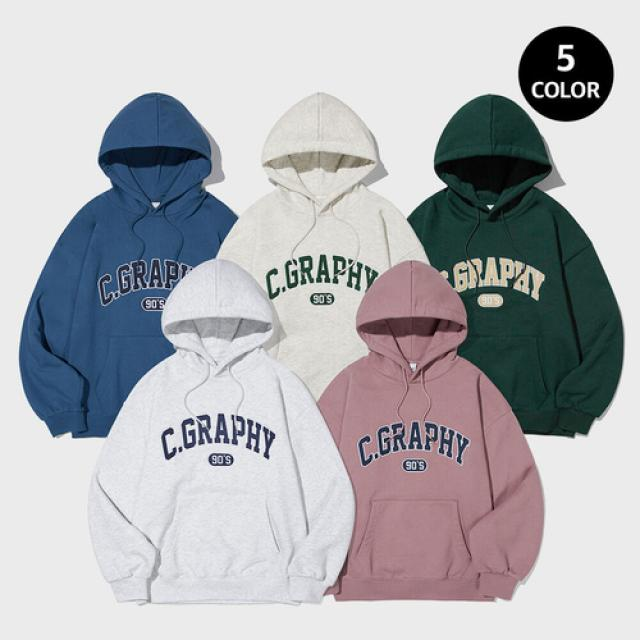Blouse_deep: (314, 256, 568, 613), (28, 83, 232, 445), (220, 64, 450, 369)
